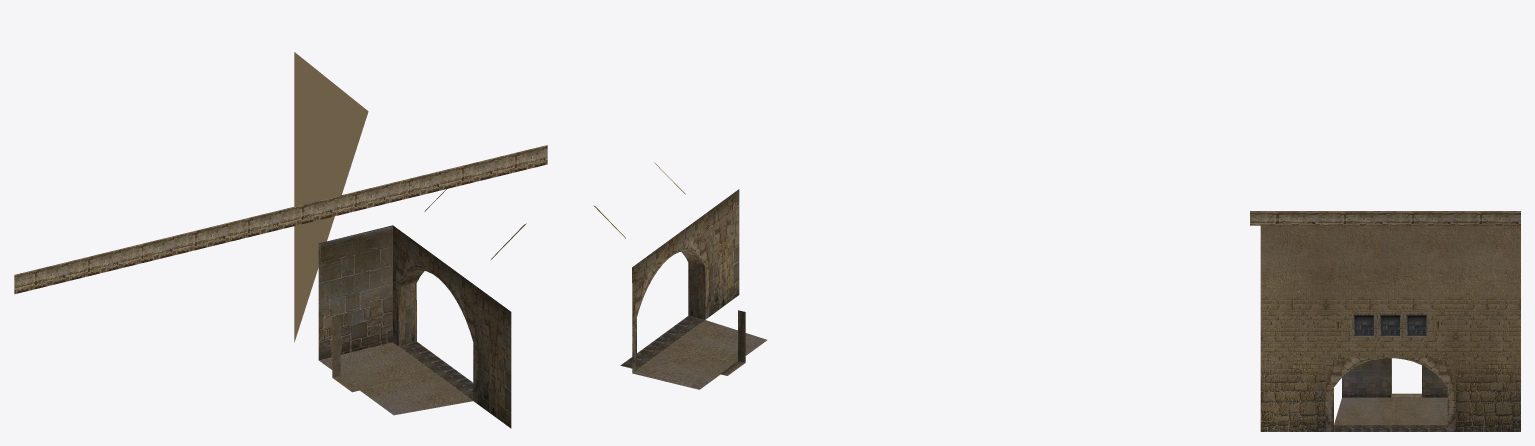
Rendered from M7Z1_CityWall3A.glb.
3 renders of one model, left to right at view 1: azimuth 30°, elevation 25°; view 2: azimuth 150°, elevation 25°; view 3: azimuth 270°, elevation 25°, orthographic. The views are drawn at different scales.
Parts seen in each view (by area): view 1: M7Z1_CITYWALL3A; view 2: M7Z1_CITYWALL3A; view 3: M7Z1_CITYWALL3A.
Part boxes in pixels (bbox=[...]): M7Z1_CITYWALL3A: bbox=[14, 52, 547, 428]; M7Z1_CITYWALL3A: bbox=[593, 162, 767, 389]; M7Z1_CITYWALL3A: bbox=[1250, 211, 1520, 431].
Size of the model in its own units: 30.62 by 16 by 16.66.
Materials: 11 (11 with a texture image).
